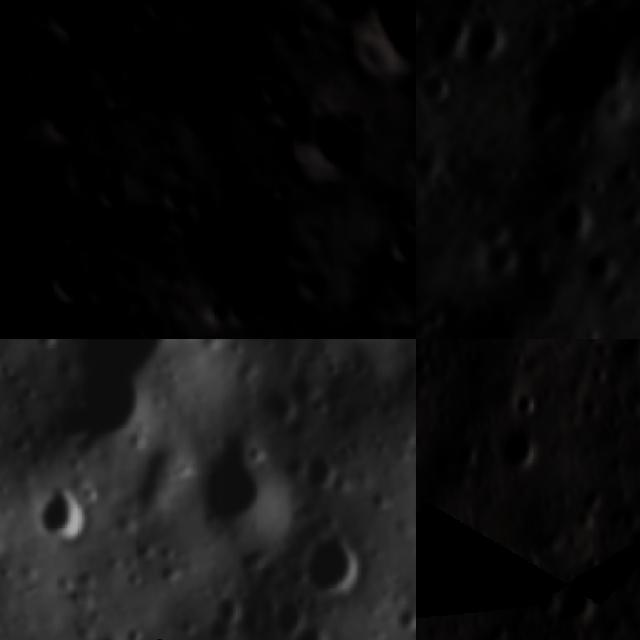crater: (196, 430, 274, 536), (284, 101, 378, 183), (341, 0, 416, 88), (445, 2, 522, 78), (300, 528, 364, 598), (36, 248, 101, 314), (31, 484, 96, 548), (535, 191, 596, 252), (75, 156, 126, 228), (416, 57, 466, 117), (39, 96, 91, 153), (40, 0, 94, 45), (493, 428, 539, 474), (263, 595, 309, 640), (549, 584, 598, 626), (301, 448, 345, 494), (579, 248, 623, 292), (548, 0, 613, 29), (379, 228, 416, 275), (160, 179, 203, 219), (130, 0, 183, 31), (250, 76, 290, 114), (504, 385, 543, 419), (453, 436, 485, 474), (416, 0, 437, 53), (474, 612, 510, 640), (286, 621, 335, 640), (206, 297, 235, 329), (391, 598, 416, 635), (269, 172, 295, 204), (162, 287, 190, 316), (630, 529, 640, 580), (0, 357, 18, 380), (0, 197, 14, 226), (35, 339, 57, 354), (632, 581, 640, 612)
